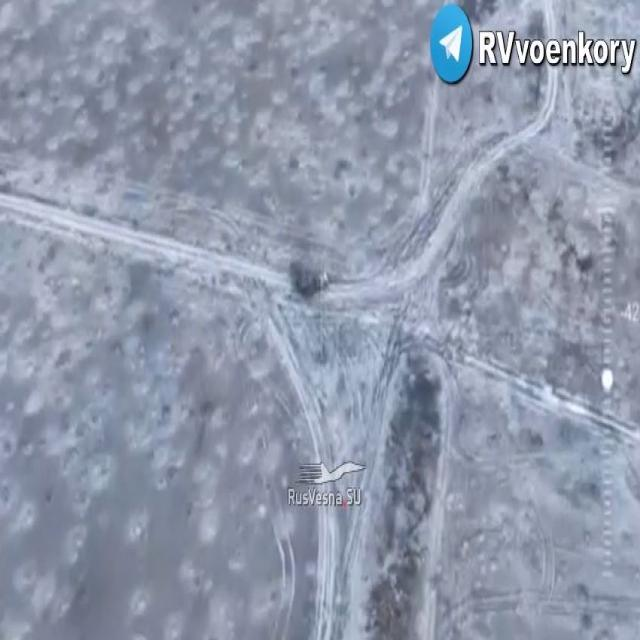vehicle: (287, 247, 339, 311)
